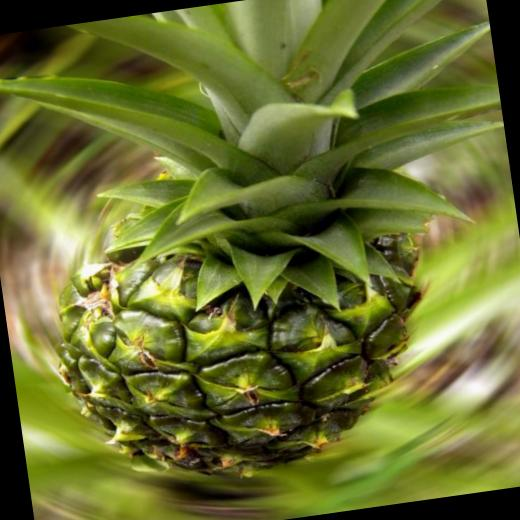Mango: (0, 0, 520, 508)
